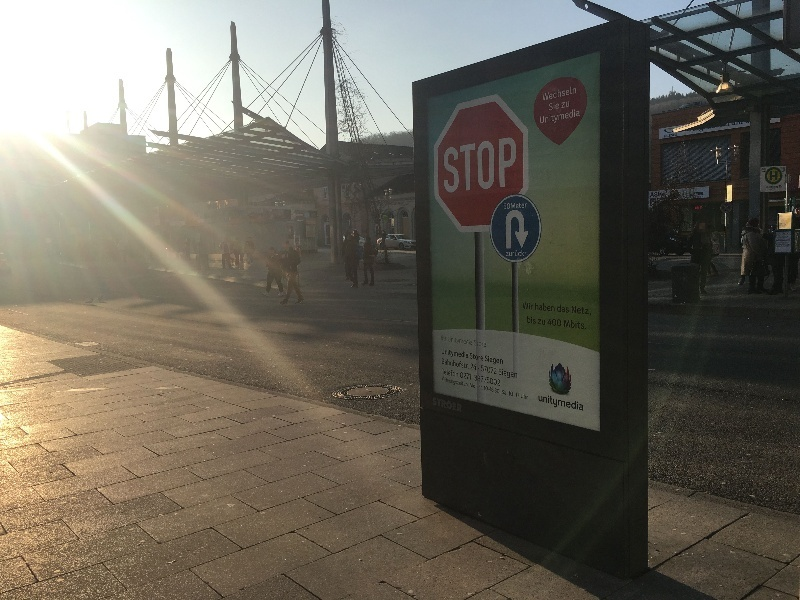text: (449, 136, 464, 195), (465, 136, 480, 195), (481, 136, 496, 195), (497, 136, 512, 195), (545, 108, 560, 128), (561, 108, 576, 128), (545, 394, 560, 413), (561, 394, 576, 413), (545, 85, 560, 102), (561, 85, 576, 102), (433, 397, 448, 413), (444, 136, 448, 195), (513, 136, 517, 195), (449, 397, 463, 413), (449, 349, 464, 361), (449, 358, 464, 370), (481, 375, 496, 387), (449, 336, 464, 347), (449, 377, 464, 388), (577, 306, 591, 317), (499, 369, 512, 380), (770, 171, 784, 181), (561, 101, 576, 110), (481, 366, 496, 375), (577, 394, 584, 413), (485, 355, 496, 367), (564, 320, 576, 330), (549, 102, 560, 112), (545, 303, 555, 313), (577, 320, 587, 330), (470, 352, 480, 362), (549, 319, 560, 328), (513, 203, 527, 210), (539, 394, 544, 413), (535, 303, 544, 313), (449, 369, 459, 378), (465, 336, 473, 347), (484, 386, 496, 393), (540, 108, 544, 128), (513, 250, 524, 257), (689, 192, 704, 197), (561, 305, 569, 314), (442, 349, 448, 361), (497, 355, 503, 367), (442, 358, 448, 370), (471, 363, 480, 371), (502, 389, 512, 396), (503, 203, 512, 210), (529, 316, 536, 325), (577, 108, 580, 128), (475, 375, 480, 387), (470, 383, 480, 389), (516, 393, 528, 398), (481, 340, 488, 348), (513, 369, 518, 380), (443, 377, 448, 388), (522, 302, 528, 311), (442, 369, 448, 378), (441, 335, 448, 342), (521, 393, 528, 400), (474, 340, 480, 348), (465, 349, 469, 361), (465, 358, 469, 370), (465, 372, 471, 380), (529, 302, 534, 311), (572, 306, 576, 317), (465, 377, 469, 388), (506, 250, 512, 257), (538, 319, 544, 326), (657, 192, 664, 198), (664, 133, 672, 138), (497, 375, 500, 387), (542, 85, 544, 102), (460, 372, 464, 380), (481, 352, 484, 362), (497, 388, 501, 395), (769, 186, 778, 189), (652, 192, 656, 198), (779, 185, 784, 189), (673, 133, 677, 138), (558, 305, 560, 314), (514, 395, 528, 396), (509, 392, 512, 396), (527, 316, 528, 325), (561, 319, 562, 328), (472, 378, 480, 379), (545, 319, 546, 326), (495, 388, 496, 395), (766, 186, 768, 189), (479, 385, 480, 390), (481, 385, 482, 390), (478, 368, 480, 370), (477, 387, 480, 388)
